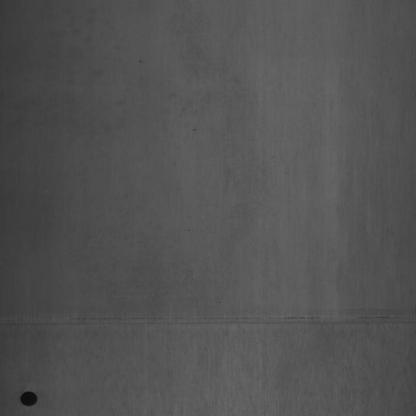punching_hole: (14, 379, 41, 412)
welding_line: (0, 309, 411, 340)
